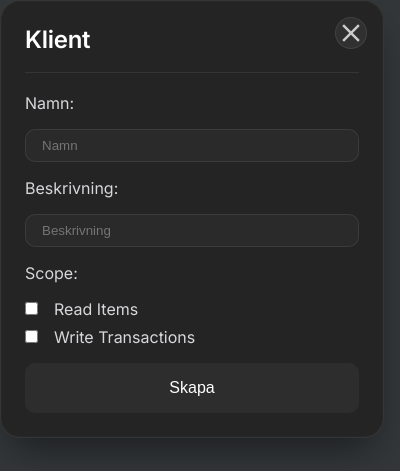
it: AddClientPopup › accept button state › is enabled with a name and at least one scope
Type "Scanner" into the field with placeholder "Namn" at (192, 145), box [25,129,359,162]
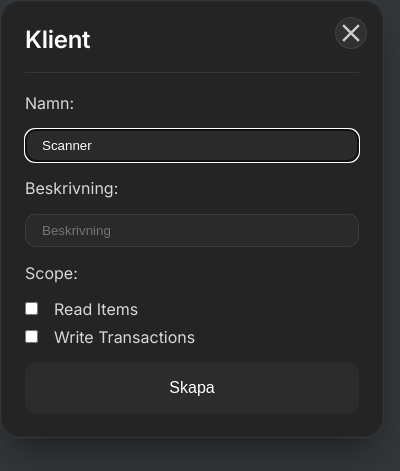
Click the text "read items" at (96, 309), box [54,299,138,319]
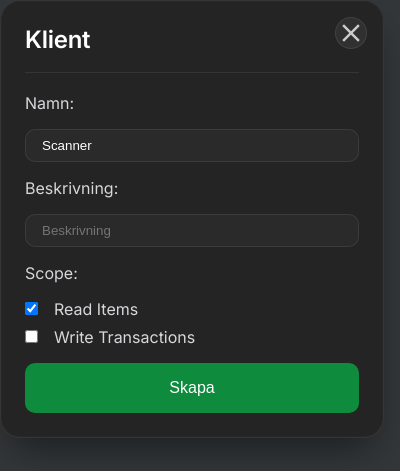
Now the button "Skapa" is enabled, box [25,363,359,413]
